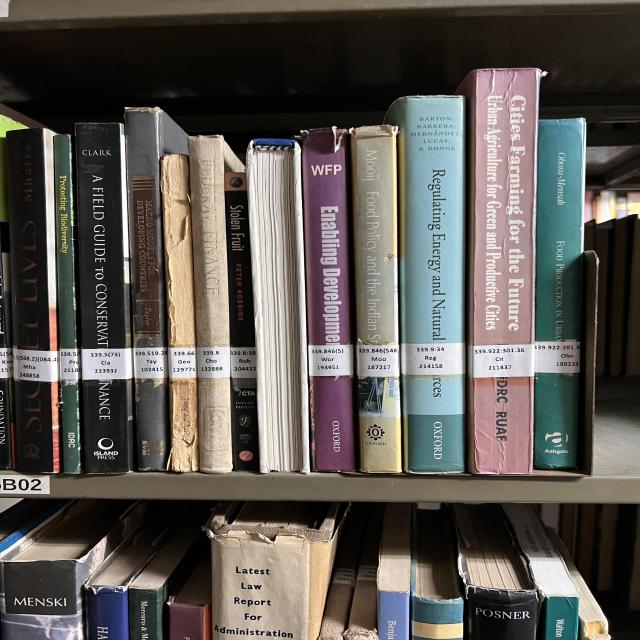Book: (457, 69, 542, 474), (387, 96, 465, 474), (125, 108, 188, 471), (247, 139, 310, 472), (2, 500, 148, 640), (75, 122, 133, 474), (205, 501, 347, 640), (300, 128, 355, 471), (533, 119, 585, 469), (7, 129, 60, 472), (352, 125, 402, 472), (188, 135, 233, 474), (453, 504, 538, 640), (162, 155, 198, 472), (225, 172, 260, 471), (53, 135, 82, 474)
Label: (470, 344, 535, 378), (402, 342, 465, 375), (82, 348, 133, 380), (13, 349, 58, 382), (535, 341, 580, 374), (357, 344, 400, 378), (308, 345, 353, 376), (197, 346, 230, 379), (133, 348, 168, 379), (168, 348, 197, 379), (230, 348, 257, 379), (58, 349, 80, 380)
